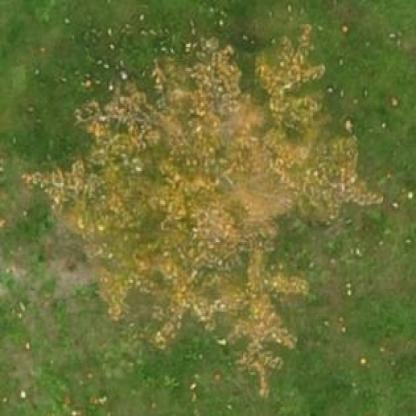Deciduous Tree: (17, 43, 377, 370)
